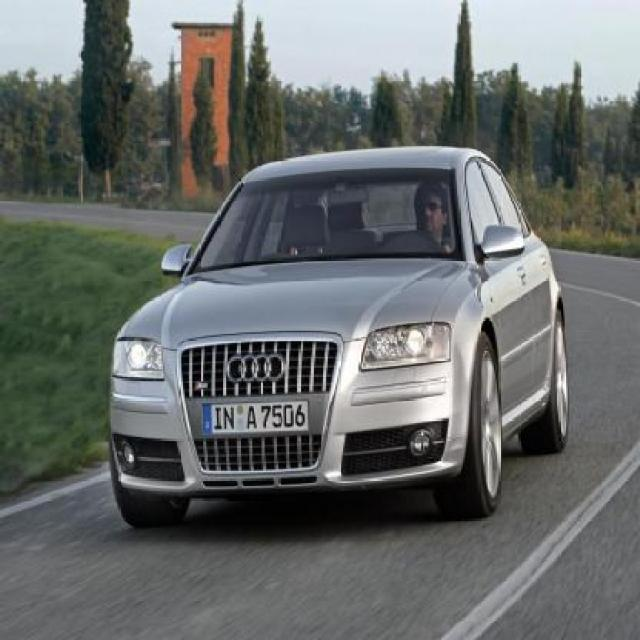License-Plates: (196, 390, 315, 444)
